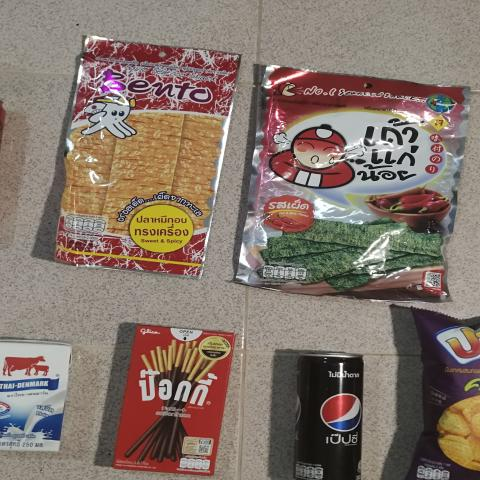bento_red: (62, 39, 206, 287)
pepsi_black: (290, 345, 365, 480)
pokki: (121, 319, 233, 473)
taokaenoi: (269, 80, 452, 295)
thai_denmark: (0, 341, 81, 449)
